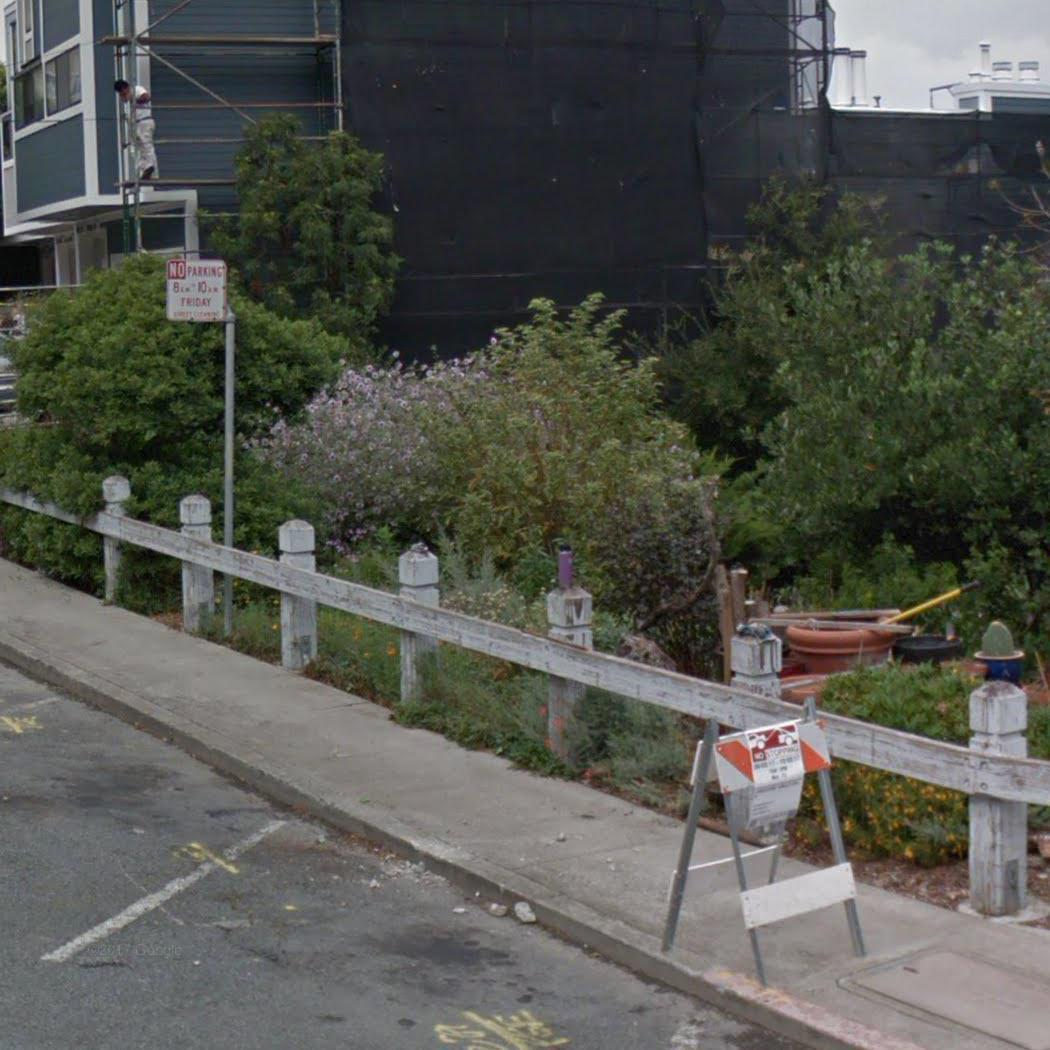No Parking: (164, 255, 230, 324)
